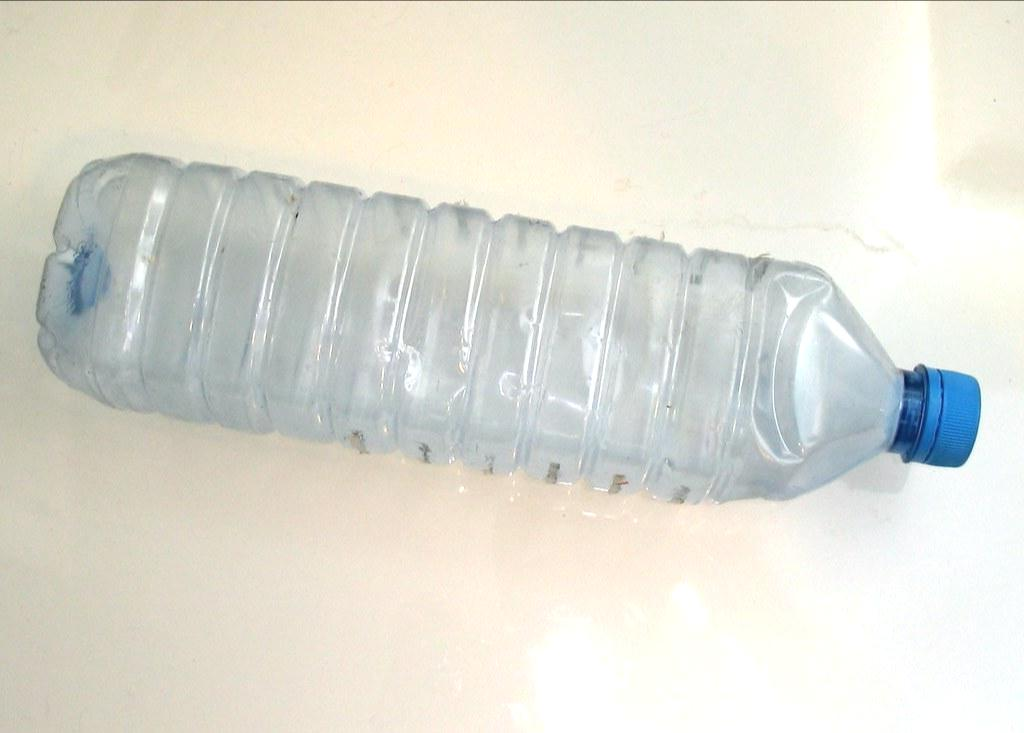bottle: (22, 140, 992, 542)
